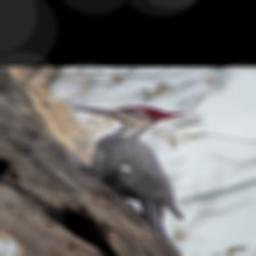Woodpecker: (68, 106, 187, 238)
